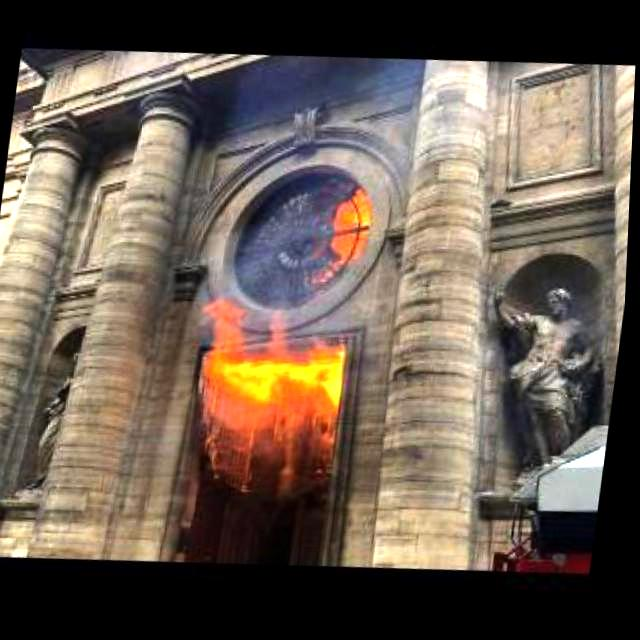fire: (185, 291, 362, 437), (321, 180, 384, 272)
